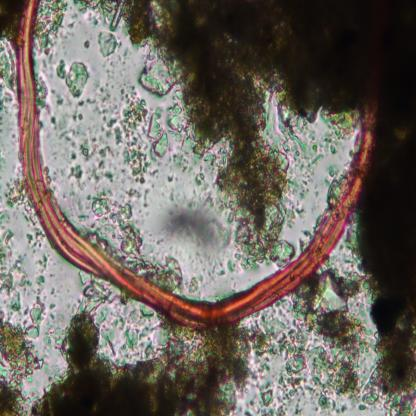Anthropogenic: (16, 0, 379, 329)
Background material: (112, 1, 294, 265), (31, 325, 251, 414), (371, 0, 416, 404), (296, 270, 374, 412), (293, 1, 371, 135), (63, 273, 164, 363), (252, 299, 309, 415), (116, 91, 170, 177), (0, 318, 43, 416), (160, 198, 228, 258), (170, 99, 206, 184), (0, 212, 27, 316), (292, 134, 322, 212), (120, 206, 152, 277), (69, 136, 114, 186), (34, 1, 70, 54), (0, 0, 17, 112), (86, 194, 122, 240), (99, 84, 122, 145), (22, 290, 46, 342), (75, 1, 117, 27), (154, 253, 182, 291), (64, 58, 90, 98), (95, 27, 118, 60), (7, 178, 29, 212), (35, 72, 50, 113), (34, 251, 50, 287), (26, 223, 46, 248), (50, 115, 68, 139), (71, 100, 87, 123), (186, 276, 204, 296), (50, 84, 65, 107), (57, 60, 66, 80), (82, 39, 90, 50)
